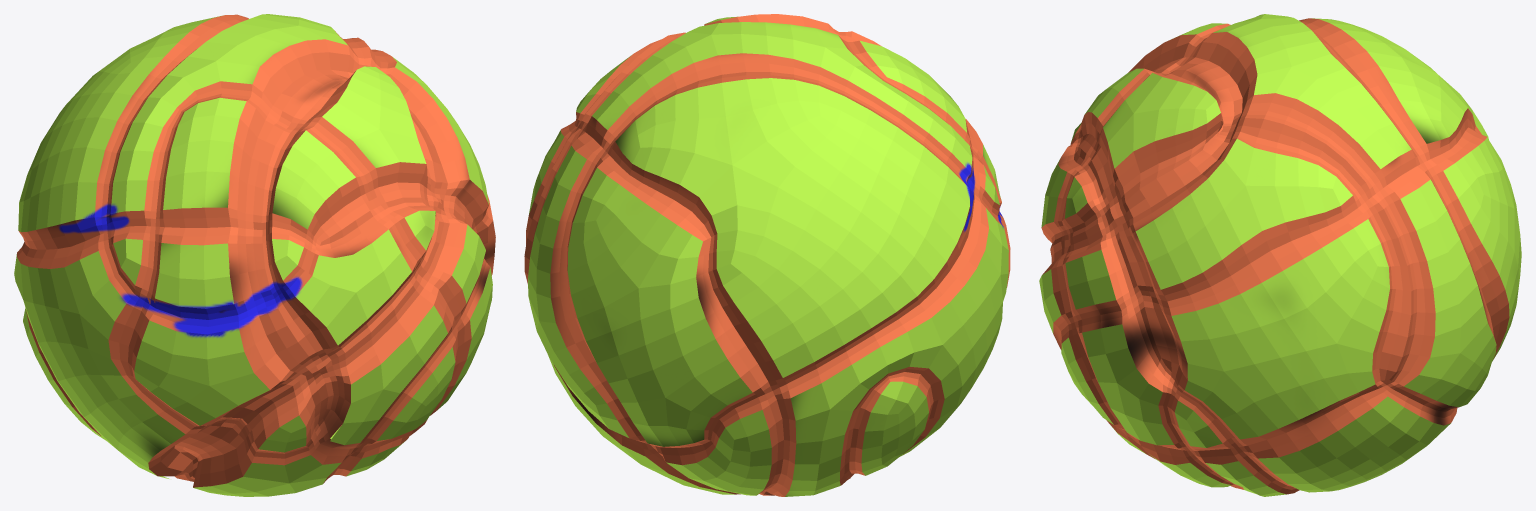
File: planet01.glb
3 renders of one model, left to right at view 1: azimuth 30°, elevation 25°; view 2: azimuth 150°, elevation 25°; view 3: azimuth 270°, elevation 25°, orthographic.
Parts seen in each view (by area): view 1: Solid; view 2: Solid; view 3: Solid.
Part boxes in pixels (x1,y1,x2,y2): Solid: [14, 14, 495, 496]; Solid: [524, 14, 1010, 496]; Solid: [1039, 14, 1521, 496].
Bounding box in the file's own units: 100 × 100 × 99.63.
1 material, 1 textured.
